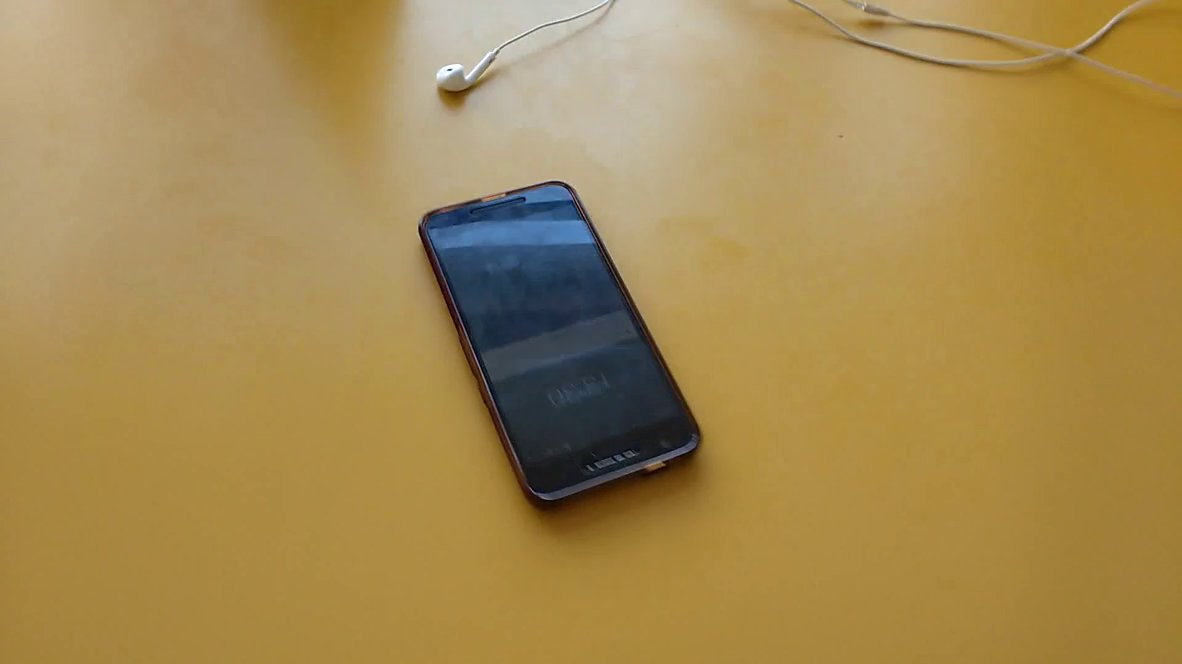phone: (403, 166, 719, 524)
